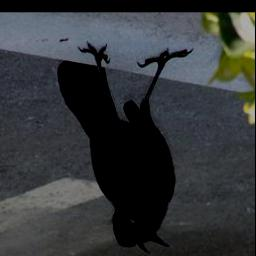Crow: (58, 43, 195, 256)
